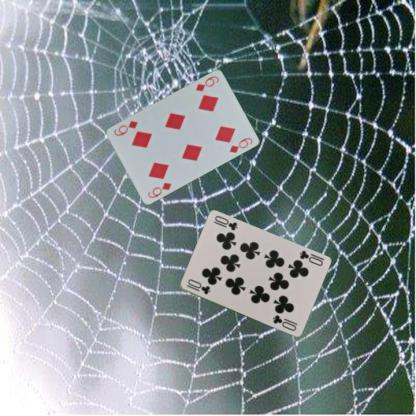10c: (296, 247, 324, 268), (184, 276, 212, 296)
6d: (145, 180, 173, 198), (193, 74, 220, 92)
